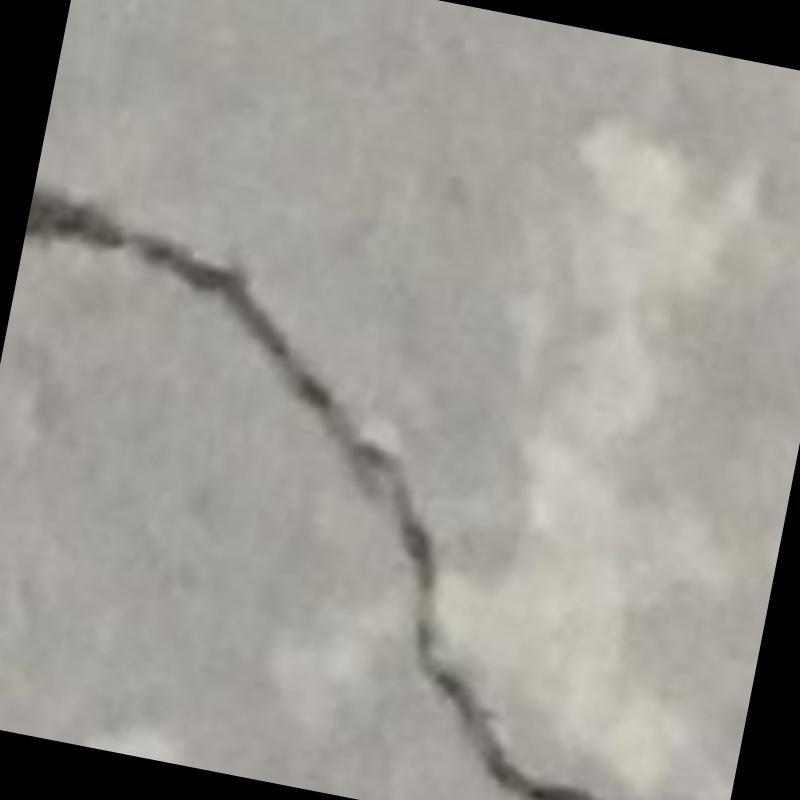pothole: (22, 190, 605, 800)
